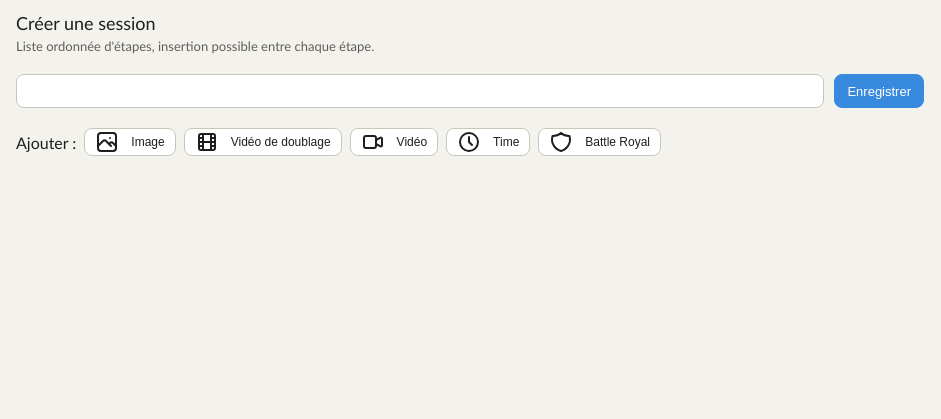
Test case: SessionCreationScreen - new session, local step list › adds a video step with loop defaulting to false
Click the button "Vidéo" at (394, 142), box [350,128,438,156]
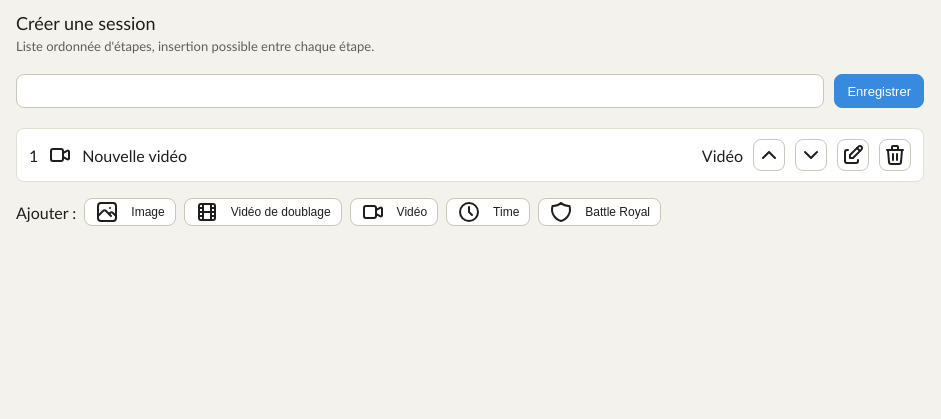
Click the button named "Modifier l'étape" at (853, 155), box [837,139,869,171]
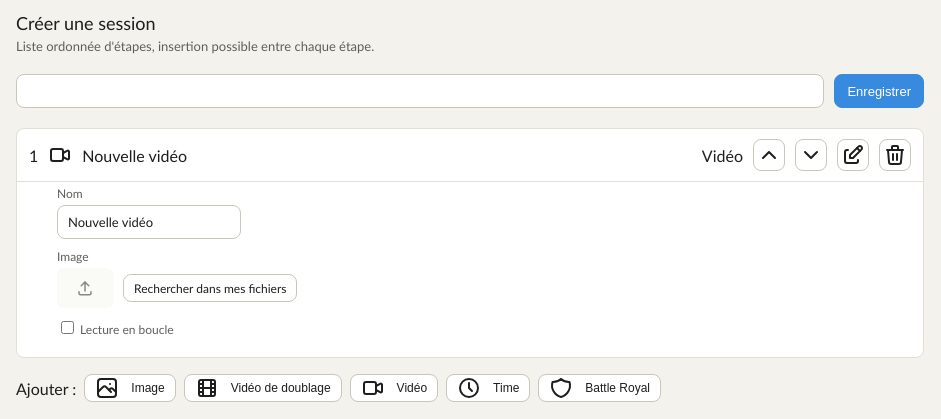
Check: the checkbox labelled "Lecture en boucle" is not checked, box [61,321,74,334]
